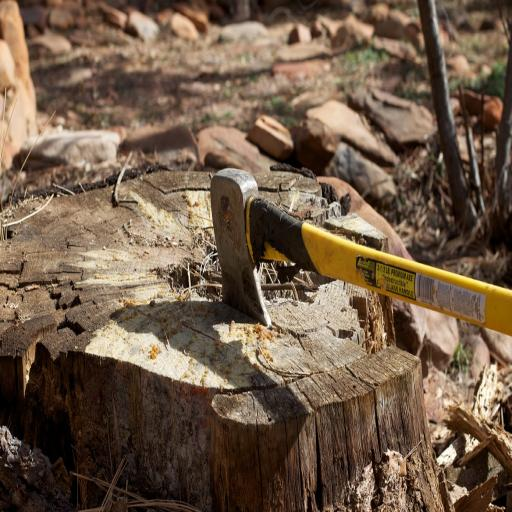Axe: (206, 163, 512, 332)
